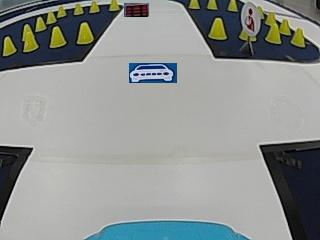cone: (22, 25, 38, 51), (209, 17, 227, 40), (49, 26, 67, 47), (266, 19, 281, 44), (76, 22, 93, 44), (291, 27, 305, 47), (2, 36, 16, 55), (35, 16, 47, 31), (280, 17, 290, 34), (56, 5, 67, 17), (89, 1, 100, 13), (108, 0, 119, 11), (227, 0, 238, 11), (206, 0, 218, 10), (73, 3, 83, 15), (46, 11, 56, 23), (188, 0, 200, 9)
patient: (243, 3, 261, 35)
